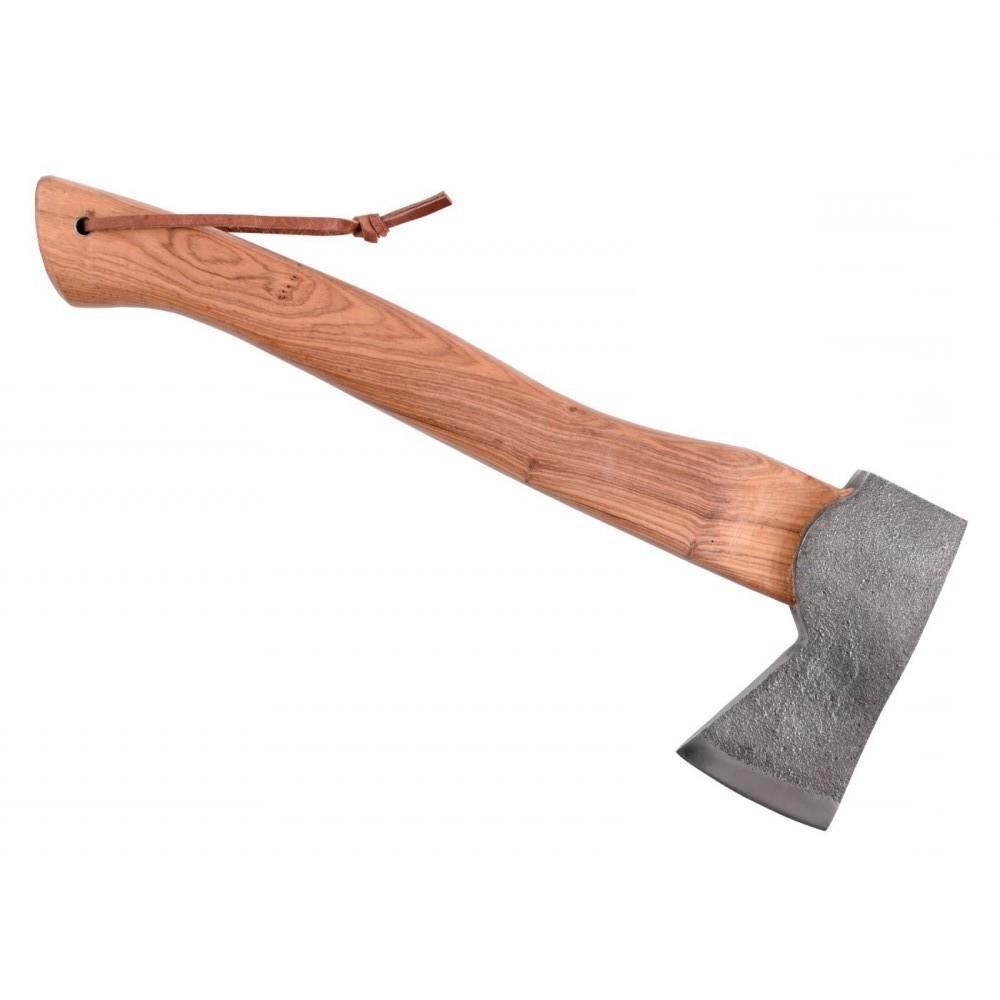machado: (36, 178, 965, 828)
